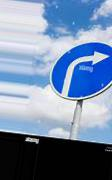right: (50, 42, 112, 101)
